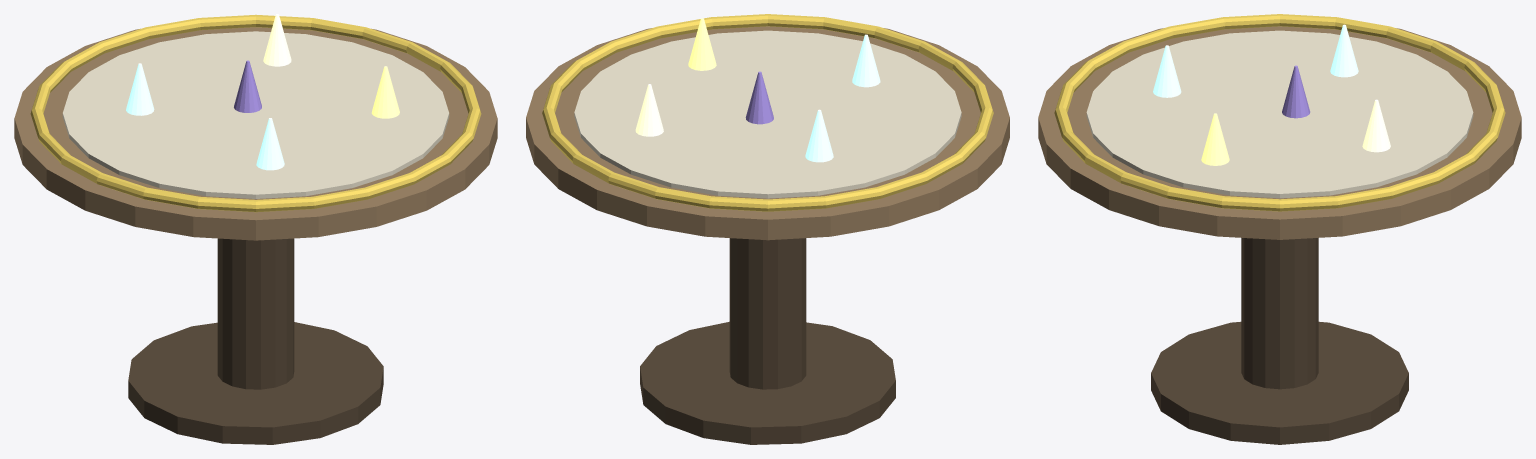
File: wayfinder_table.fbx
3 views of the same model, side by side, from view 1: azimuth 30°, elevation 25°; view 2: azimuth 150°, elevation 25°; view 3: azimuth 270°, elevation 25° (orthographic).
Parts seen in each view (by area): view 1: wayfinder_table; view 2: wayfinder_table; view 3: wayfinder_table.
Boxes of the visible parts, x1,y1,x2,y2 form: wayfinder_table: [14, 14, 497, 444]; wayfinder_table: [526, 14, 1009, 444]; wayfinder_table: [1038, 14, 1521, 444].
Bounding box in the file's own units: 1.5 × 1.11 × 1.5.
